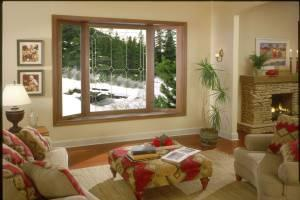window: (51, 15, 184, 115)
